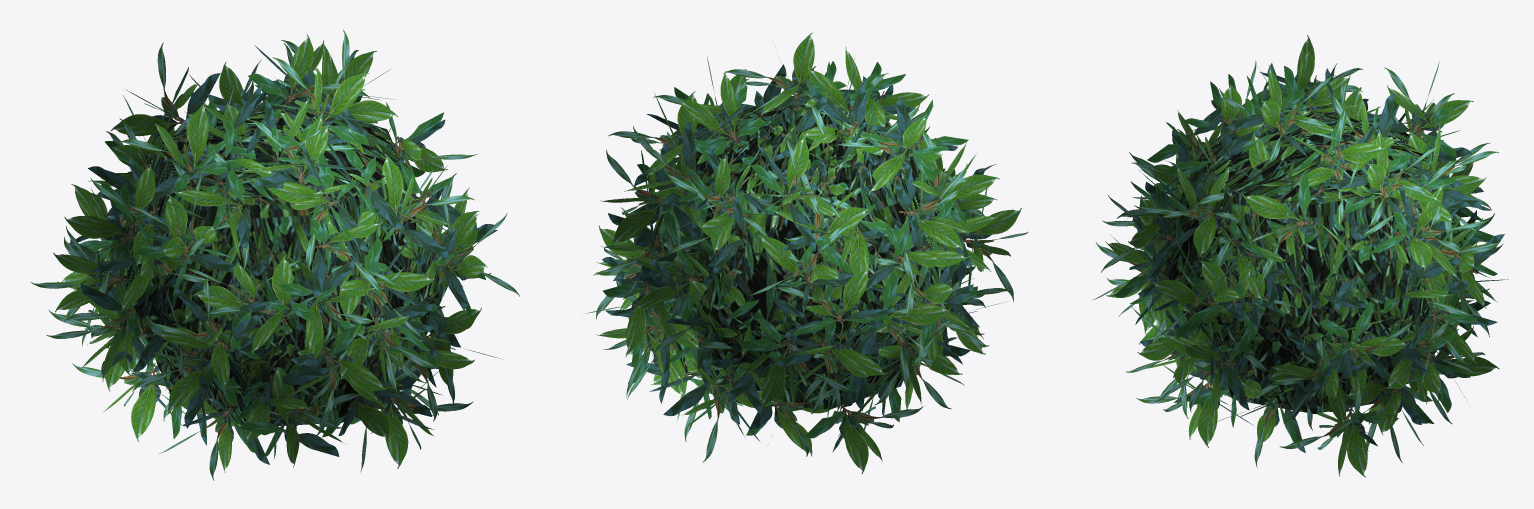
File: HedgeSmallRound.FBX
3 views of the same model, side by side, from view 1: azimuth 30°, elevation 25°; view 2: azimuth 150°, elevation 25°; view 3: azimuth 270°, elevation 25° (orthographic). The views are drawn at different scales.
Parts seen in each view (by area): view 1: HedgeSmallRound; view 2: HedgeSmallRound; view 3: HedgeSmallRound.
Boxes of the visible parts, box(x1,y1,x2,y2) form: HedgeSmallRound: box(30, 30, 519, 480); HedgeSmallRound: box(586, 32, 1028, 473); HedgeSmallRound: box(1092, 35, 1508, 477).
Size of the model in its own units: 23.92 by 21.96 by 21.75.
